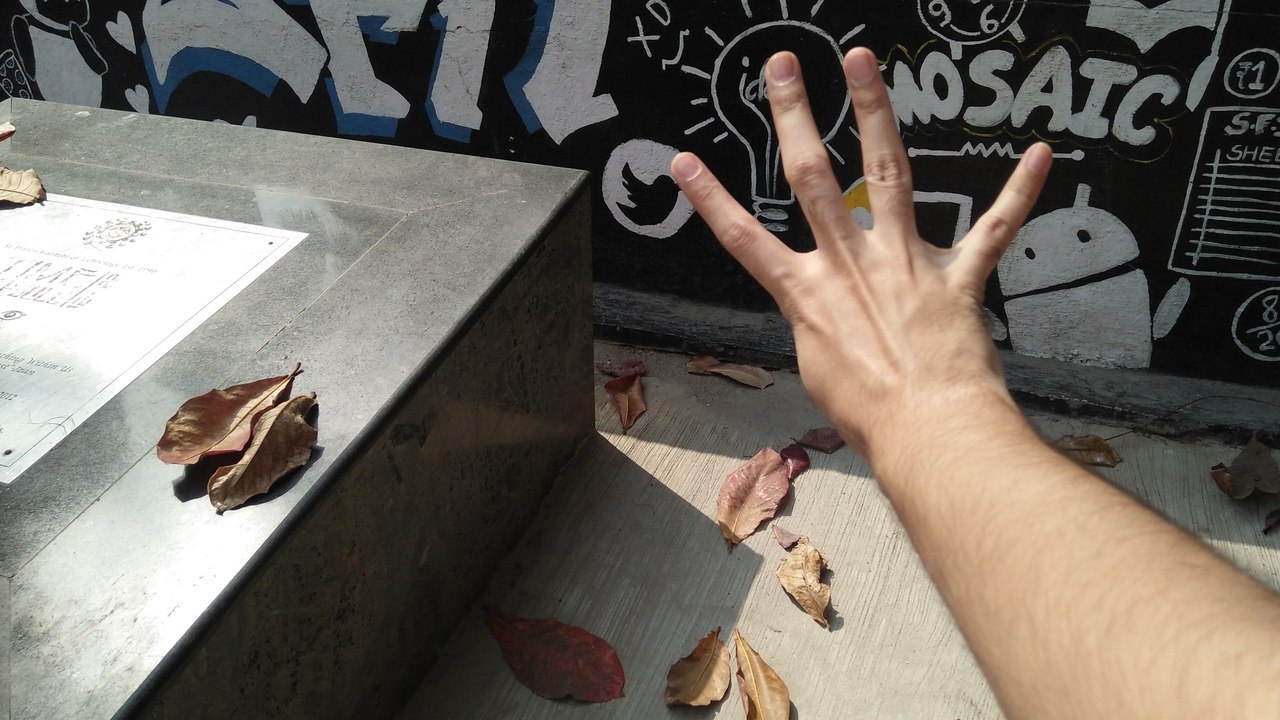fingertip: (658, 138, 724, 198), (758, 44, 816, 104), (1010, 130, 1066, 182), (838, 40, 896, 90)
